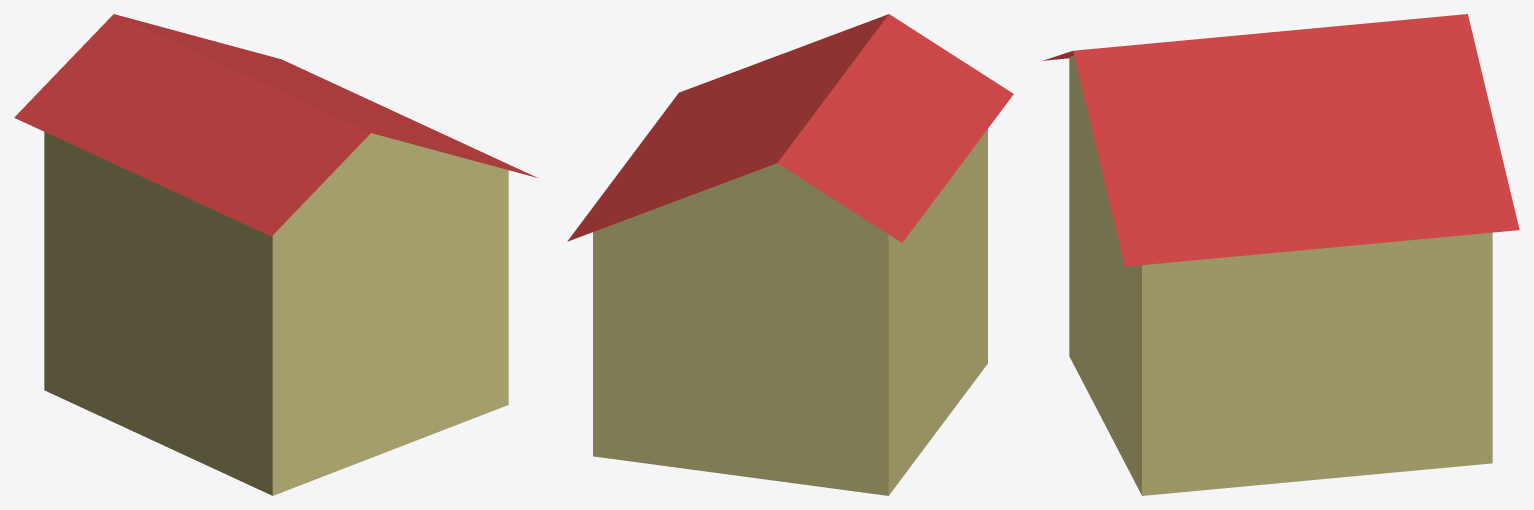
3 views of the same model, side by side, from view 1: azimuth 30°, elevation 25°; view 2: azimuth 150°, elevation 25°; view 3: azimuth 270°, elevation 25° (orthographic). The views are drawn at different scales.
Size of the model in its own units: 15.3 by 15.81 by 13.06.
